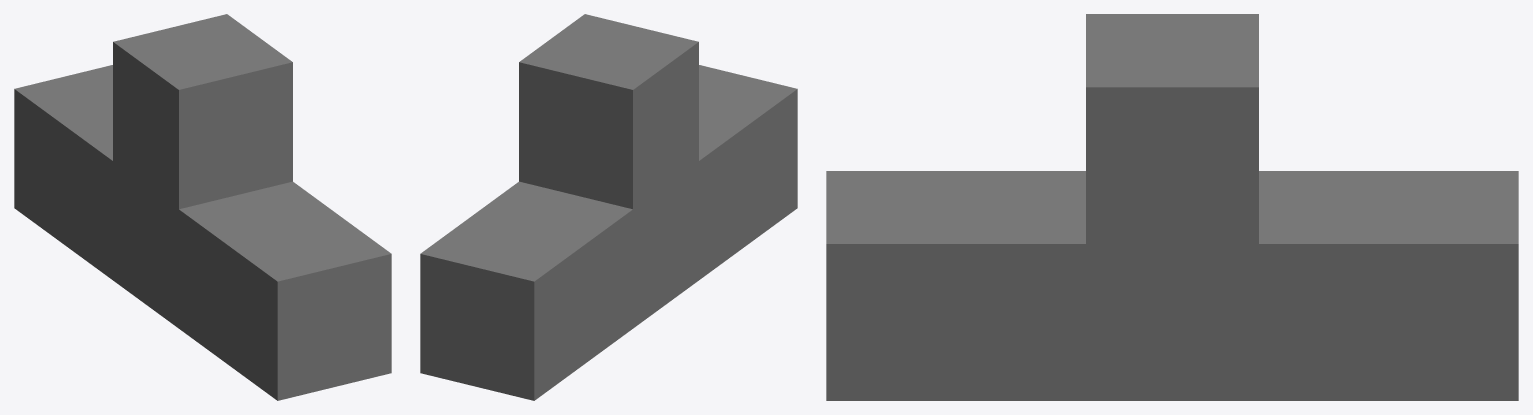
The model's file is trucks.fbx.
3 views of the same model, side by side, from view 1: azimuth 30°, elevation 25°; view 2: azimuth 150°, elevation 25°; view 3: azimuth 270°, elevation 25° (orthographic). The views are drawn at different scales.
Visible parts, largest first — view 1: cube, cube.000; view 2: cube, cube.000; view 3: cube, cube.000.
Boxes of the visible parts, x1=… form: cube: x1=14, y1=65, x2=391, y2=400; cube.000: x1=113, y1=14, x2=292, y2=209; cube: x1=420, y1=65, x2=797, y2=400; cube.000: x1=519, y1=14, x2=698, y2=209; cube: x1=826, y1=171, x2=1518, y2=400; cube.000: x1=1086, y1=14, x2=1258, y2=243.
Bounding box in the file's own units: 12.5 × 25 × 50.
